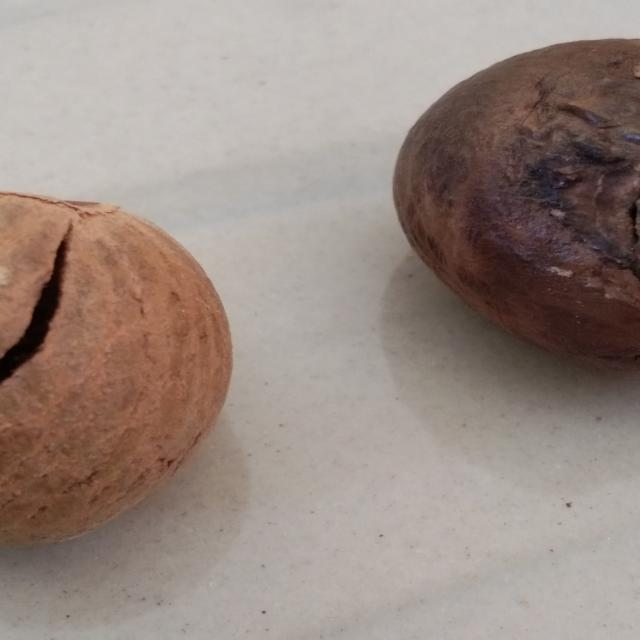karigot: (387, 22, 640, 380)
phatora: (0, 182, 247, 534)
